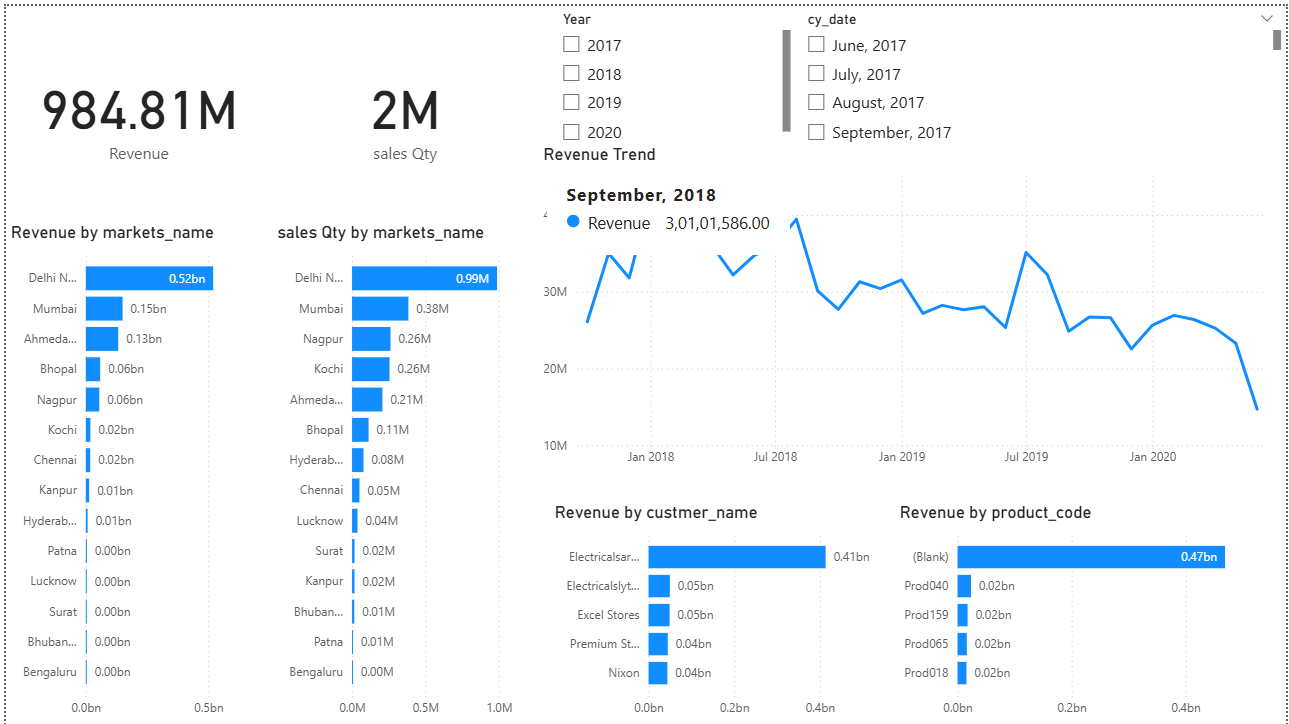

The dashboard page shown, as its layout file describes it:
{"tool":"powerbi","page":{"name":"Page 1","canvas":[1280,720],"ordinal":0},"visuals":[{"type":"card","fields":{"Values":["Basemeasure.Revenue"]},"box":[0,0,266.2,216.8],"z":0},{"type":"card","fields":{"Values":["Basemeasure.sales Qty"]},"box":[266.2,0,266.2,216.8],"z":1000},{"type":"barChart","fields":{"Y":["Basemeasure.Revenue"],"Category":["sales markets.markets_name"]},"box":[0,216.8,266.2,503.6],"z":2000},{"type":"barChart","fields":{"Y":["Basemeasure.sales Qty"],"Category":["sales markets.markets_name"]},"box":[266.2,216.8,266.2,503.6],"z":3000},{"type":"slicer","fields":{"Values":["sales date.date.Variation.Date Hierarchy.Year"]},"box":[543.4,0,245.6,137.2],"z":4000},{"type":"slicer","fields":{"Values":["sales date.cy_date"]},"box":[789,0,491.3,137.2],"z":5000},{"type":"barChart","fields":{"Y":["Basemeasure.Revenue"],"Category":["sales customers.custmer_name"]},"box":[543.4,496.7,345.8,223.7],"z":6000},{"type":"barChart","fields":{"Y":["Basemeasure.Revenue"],"Category":["sales products.product_code"]},"box":[889.2,496.7,391.1,223.7],"z":6001},{"type":"lineChart","title":"Revenue Trend","fields":{"Y":["Basemeasure.Revenue"],"Category":["sales date.cy_date"]},"box":[532.4,137.2,747.9,332.1],"z":6002}]}

Visuals, with their boxes in screenshot pixels (x1, y1, x2, y2), scaled from the page's 1280x720 canvas onto the 1289x724 screenshot:
card - Basemeasure.Revenue: left=0, top=0, right=268, bottom=218
card - Basemeasure.sales Qty: left=268, top=0, right=536, bottom=218
barChart - Basemeasure.Revenue x sales markets.markets_name: left=0, top=218, right=268, bottom=723
barChart - Basemeasure.sales Qty x sales markets.markets_name: left=268, top=218, right=536, bottom=723
slicer - sales date.date.Variation.Date Hierarchy.Year: left=547, top=0, right=795, bottom=138
slicer - sales date.cy_date: left=795, top=0, right=1288, bottom=138
barChart - Basemeasure.Revenue x sales customers.custmer_name: left=547, top=499, right=895, bottom=723
barChart - Basemeasure.Revenue x sales products.product_code: left=895, top=499, right=1288, bottom=723
"Revenue Trend" lineChart: left=536, top=138, right=1288, bottom=472
